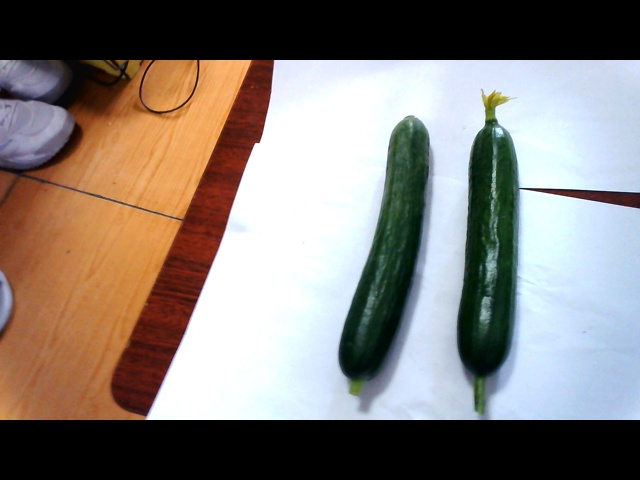cucumber: (338, 121, 436, 400), (444, 109, 529, 411)
